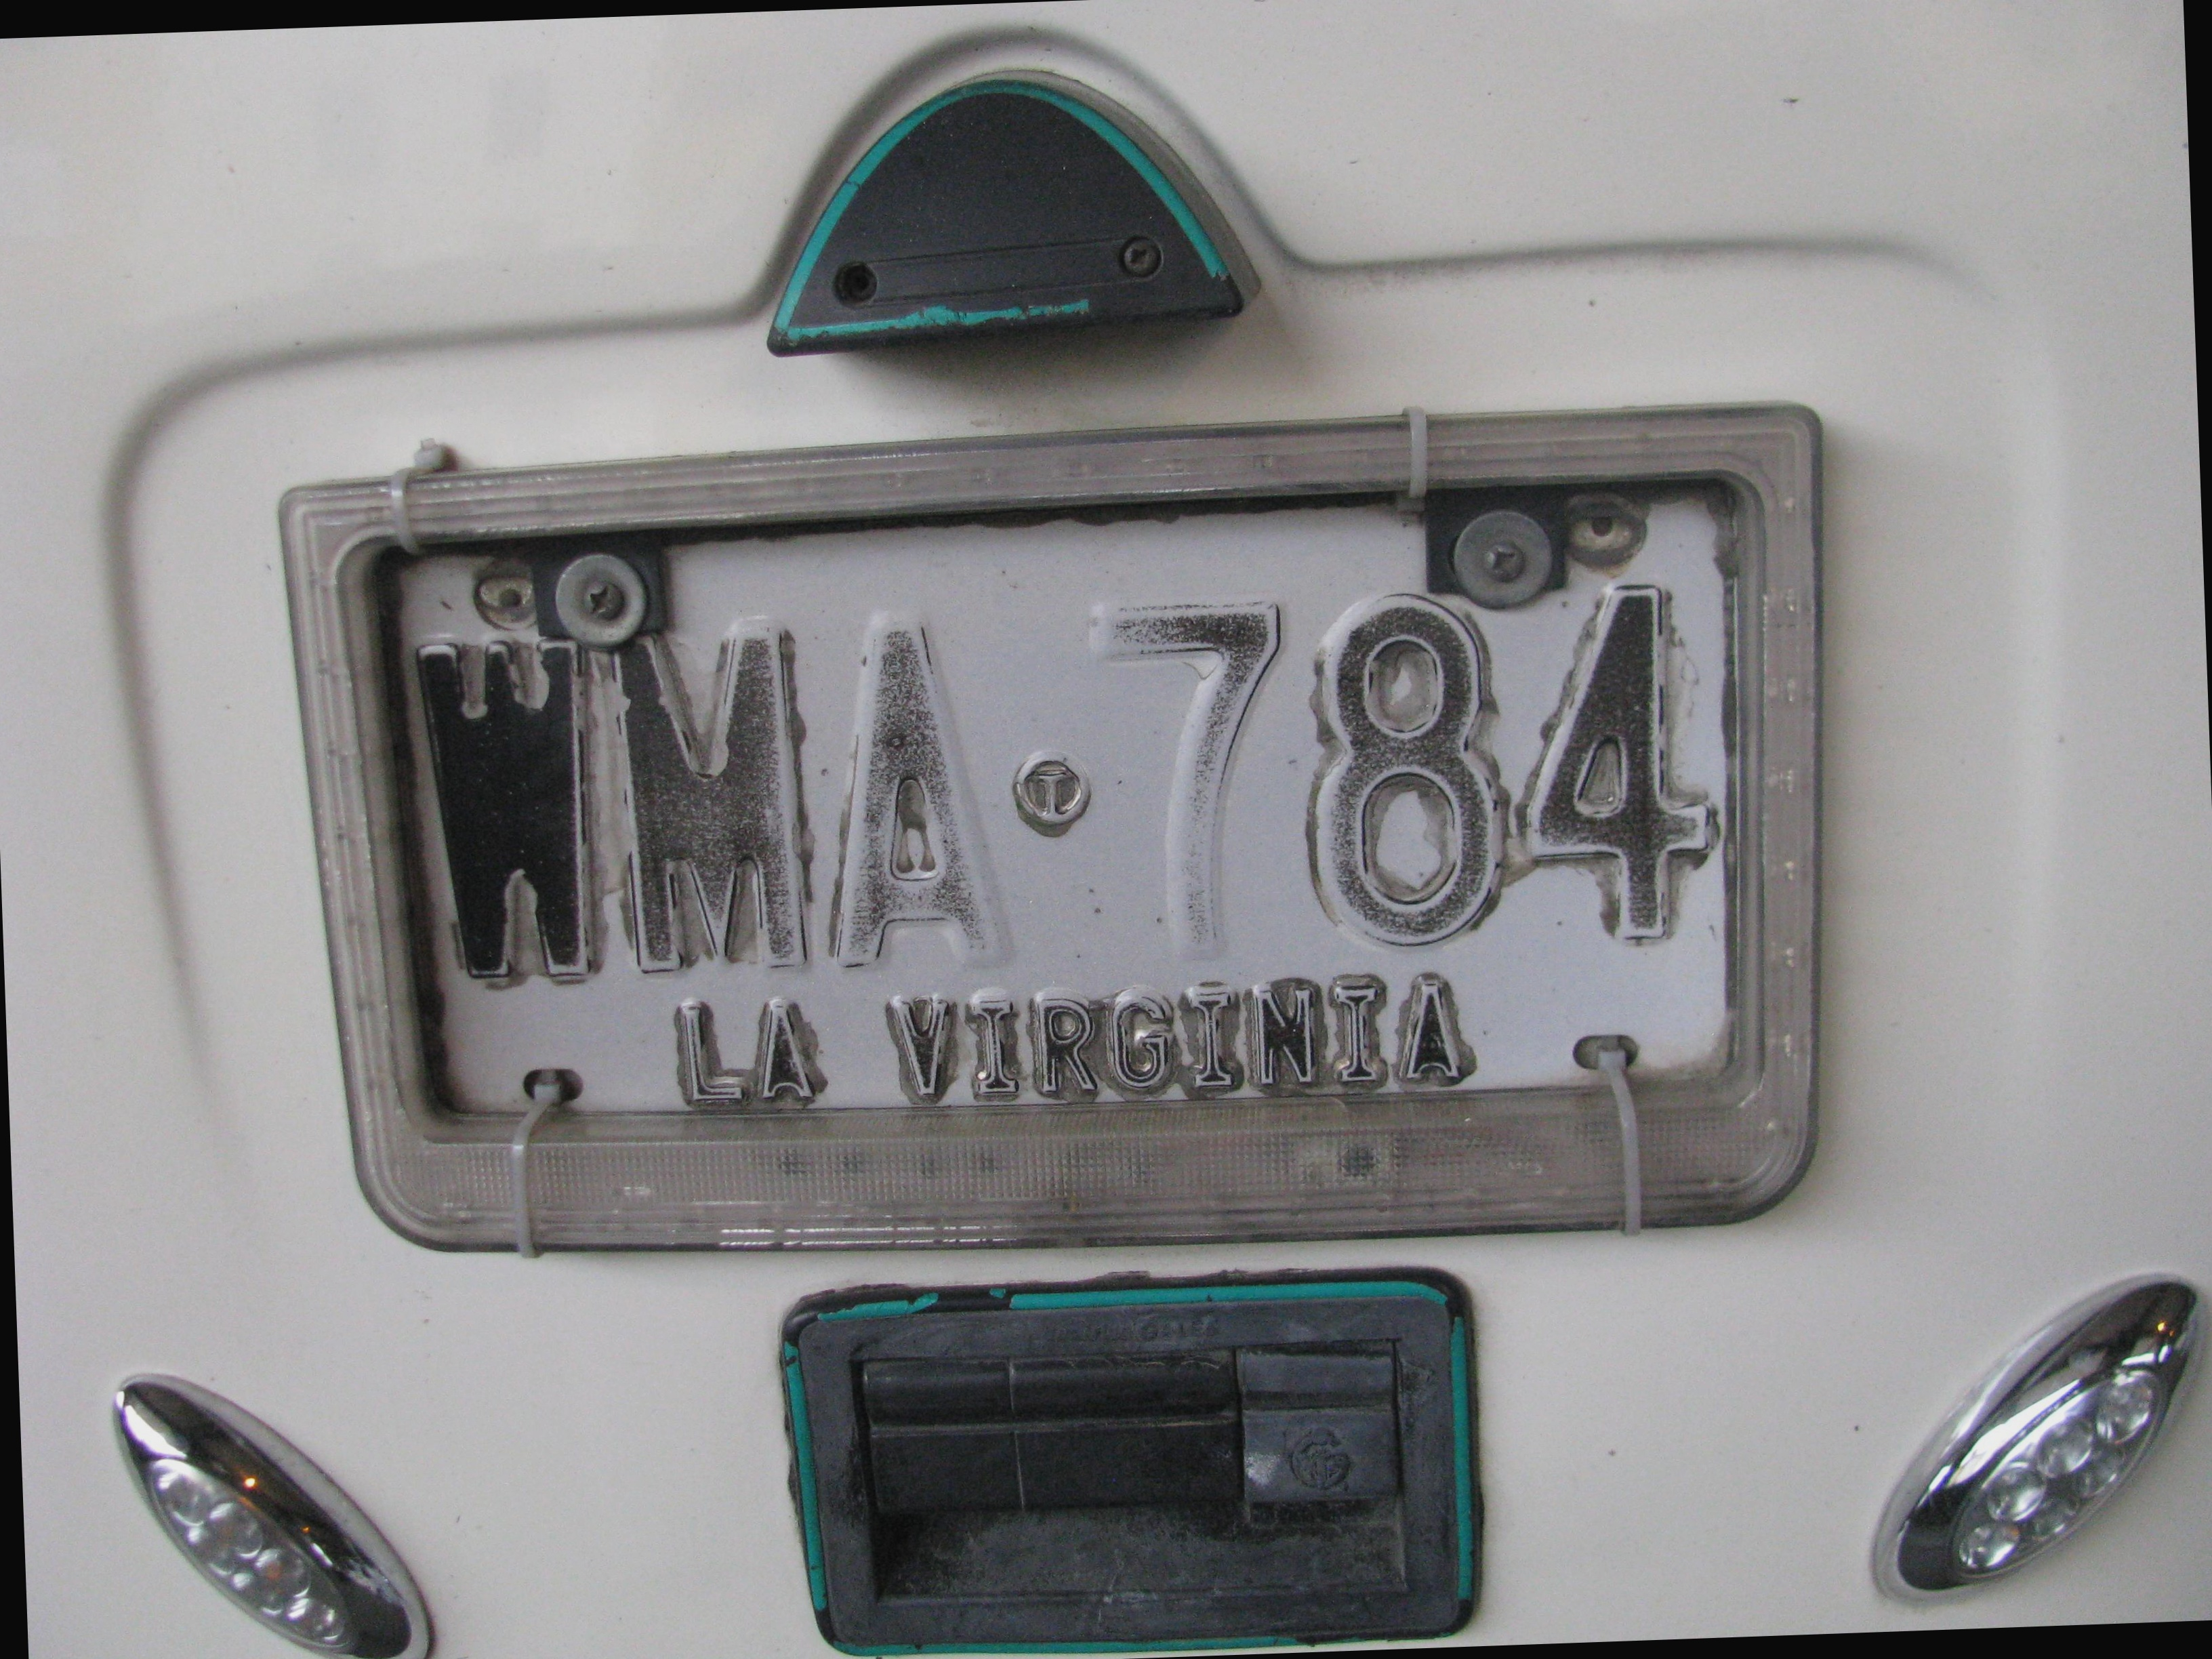placas: (268, 406, 1876, 1270)
